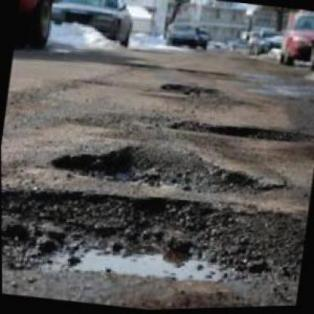Hueco: (48, 129, 293, 211), (165, 110, 314, 153), (159, 78, 227, 105)
